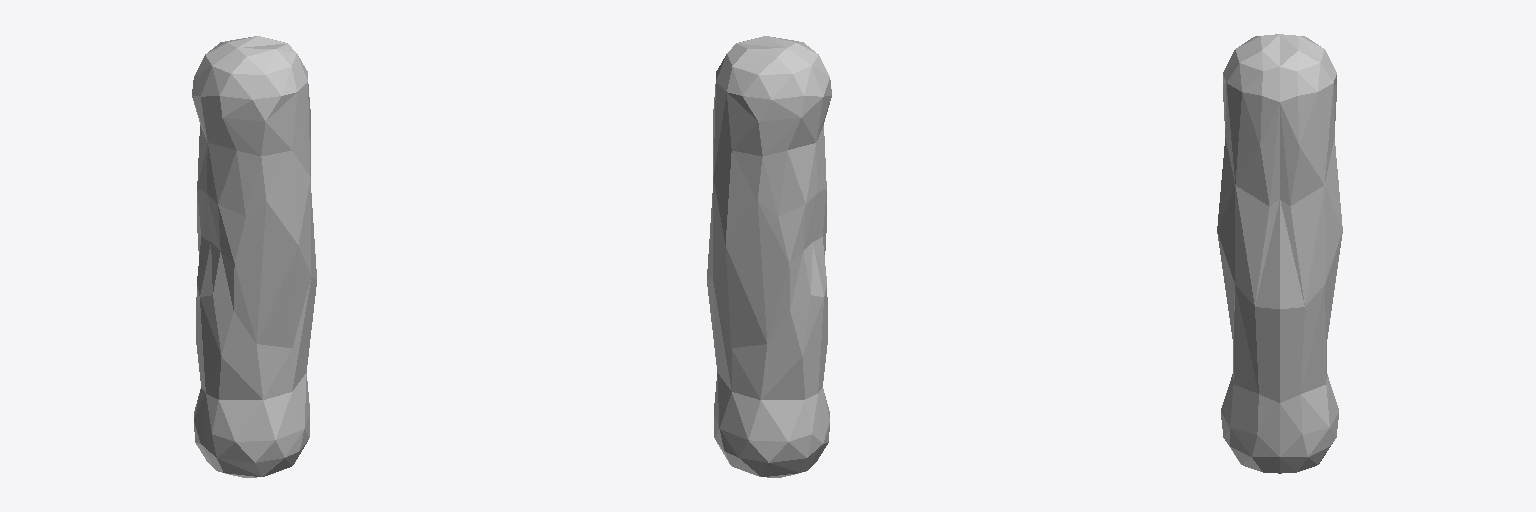
Rendered from spider leg.obj.
3 renders of one model, left to right at view 1: azimuth 30°, elevation 25°; view 2: azimuth 150°, elevation 25°; view 3: azimuth 270°, elevation 25°, orthographic.
Parts seen in each view (by area): view 1: Cylinder; view 2: Cylinder; view 3: Cylinder.
Boxes of the visible parts, x1=… form: Cylinder: x1=192, y1=36, x2=316, y2=477; Cylinder: x1=707, y1=36, x2=831, y2=477; Cylinder: x1=1217, y1=34, x2=1342, y2=473.
Bounding box in the file's own units: 0.4701 × 1.7 × 0.4564.